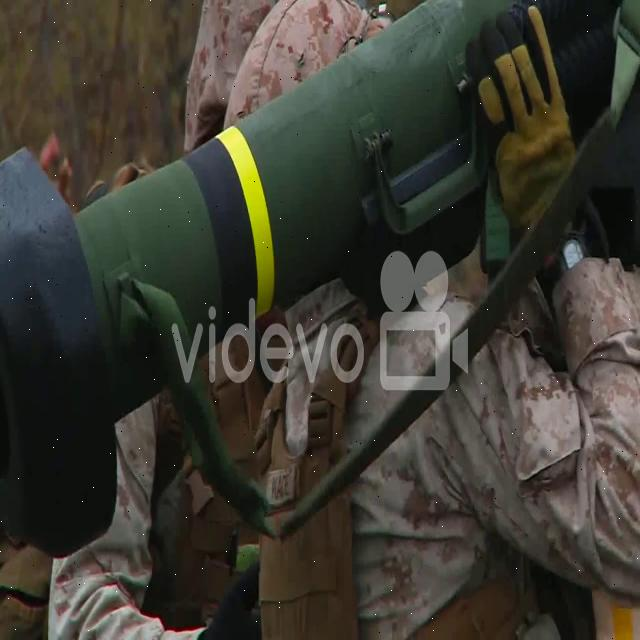bazooka: (2, 1, 640, 585)
